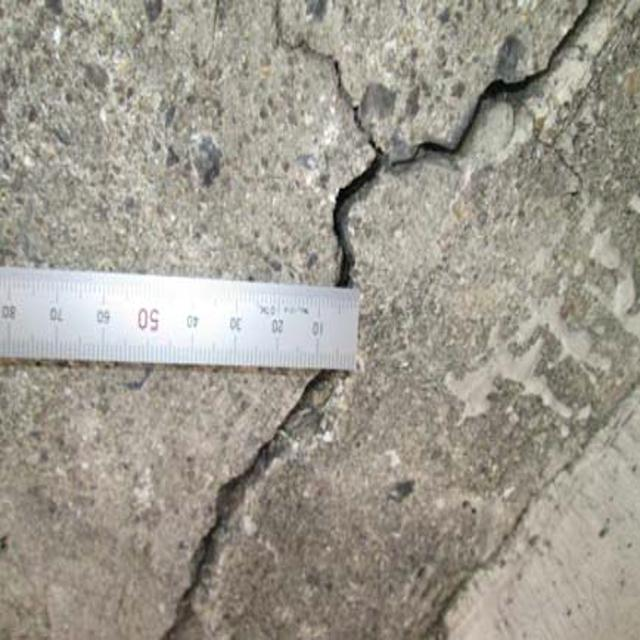crack: (264, 4, 612, 294), (126, 368, 333, 636)
